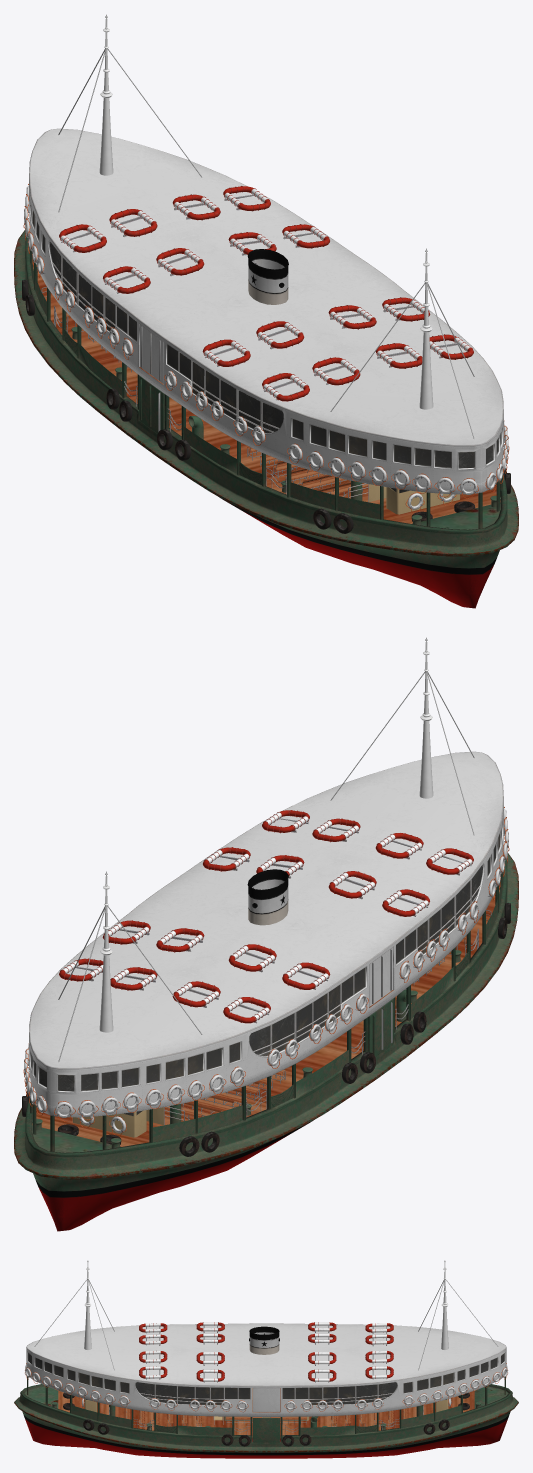
The model's file is star_ferry.obj.
The picture shows the model from 3 angles, top to bottom: view 1: azimuth 30°, elevation 25°; view 2: azimuth 150°, elevation 25°; view 3: azimuth 270°, elevation 25°; orthographic projection. The views are drawn at different scales.
Parts seen in each view (by area): view 1: obj6, obj1, obj5, obj2, obj3; view 2: obj6, obj1, obj5, obj2, obj3; view 3: obj6, obj1, obj5, obj3, obj2.
Boxes of the visible parts, box(x1,y1,x2,y2) form: obj6: box(14, 128, 518, 608); obj1: box(32, 14, 510, 533); obj5: box(33, 261, 500, 529); obj2: box(22, 186, 454, 493); obj3: box(23, 184, 509, 513); obj6: box(14, 751, 518, 1231); obj1: box(22, 637, 510, 1148); obj5: box(32, 884, 499, 1152); obj2: box(55, 809, 508, 1156); obj3: box(23, 807, 509, 1135); obj6: box(14, 1323, 518, 1458); obj1: box(25, 1260, 507, 1446); obj5: box(24, 1386, 508, 1437); obj3: box(25, 1363, 507, 1412); obj2: box(181, 1364, 507, 1426).
Bounding box in the file's own units: 10.31 × 13.18 × 32.24.
5 materials, 5 textured.
